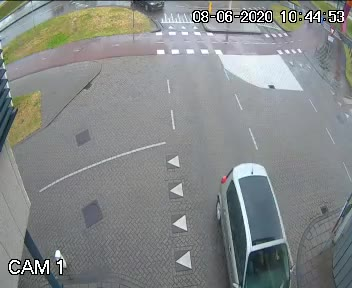car: (204, 151, 301, 288)
